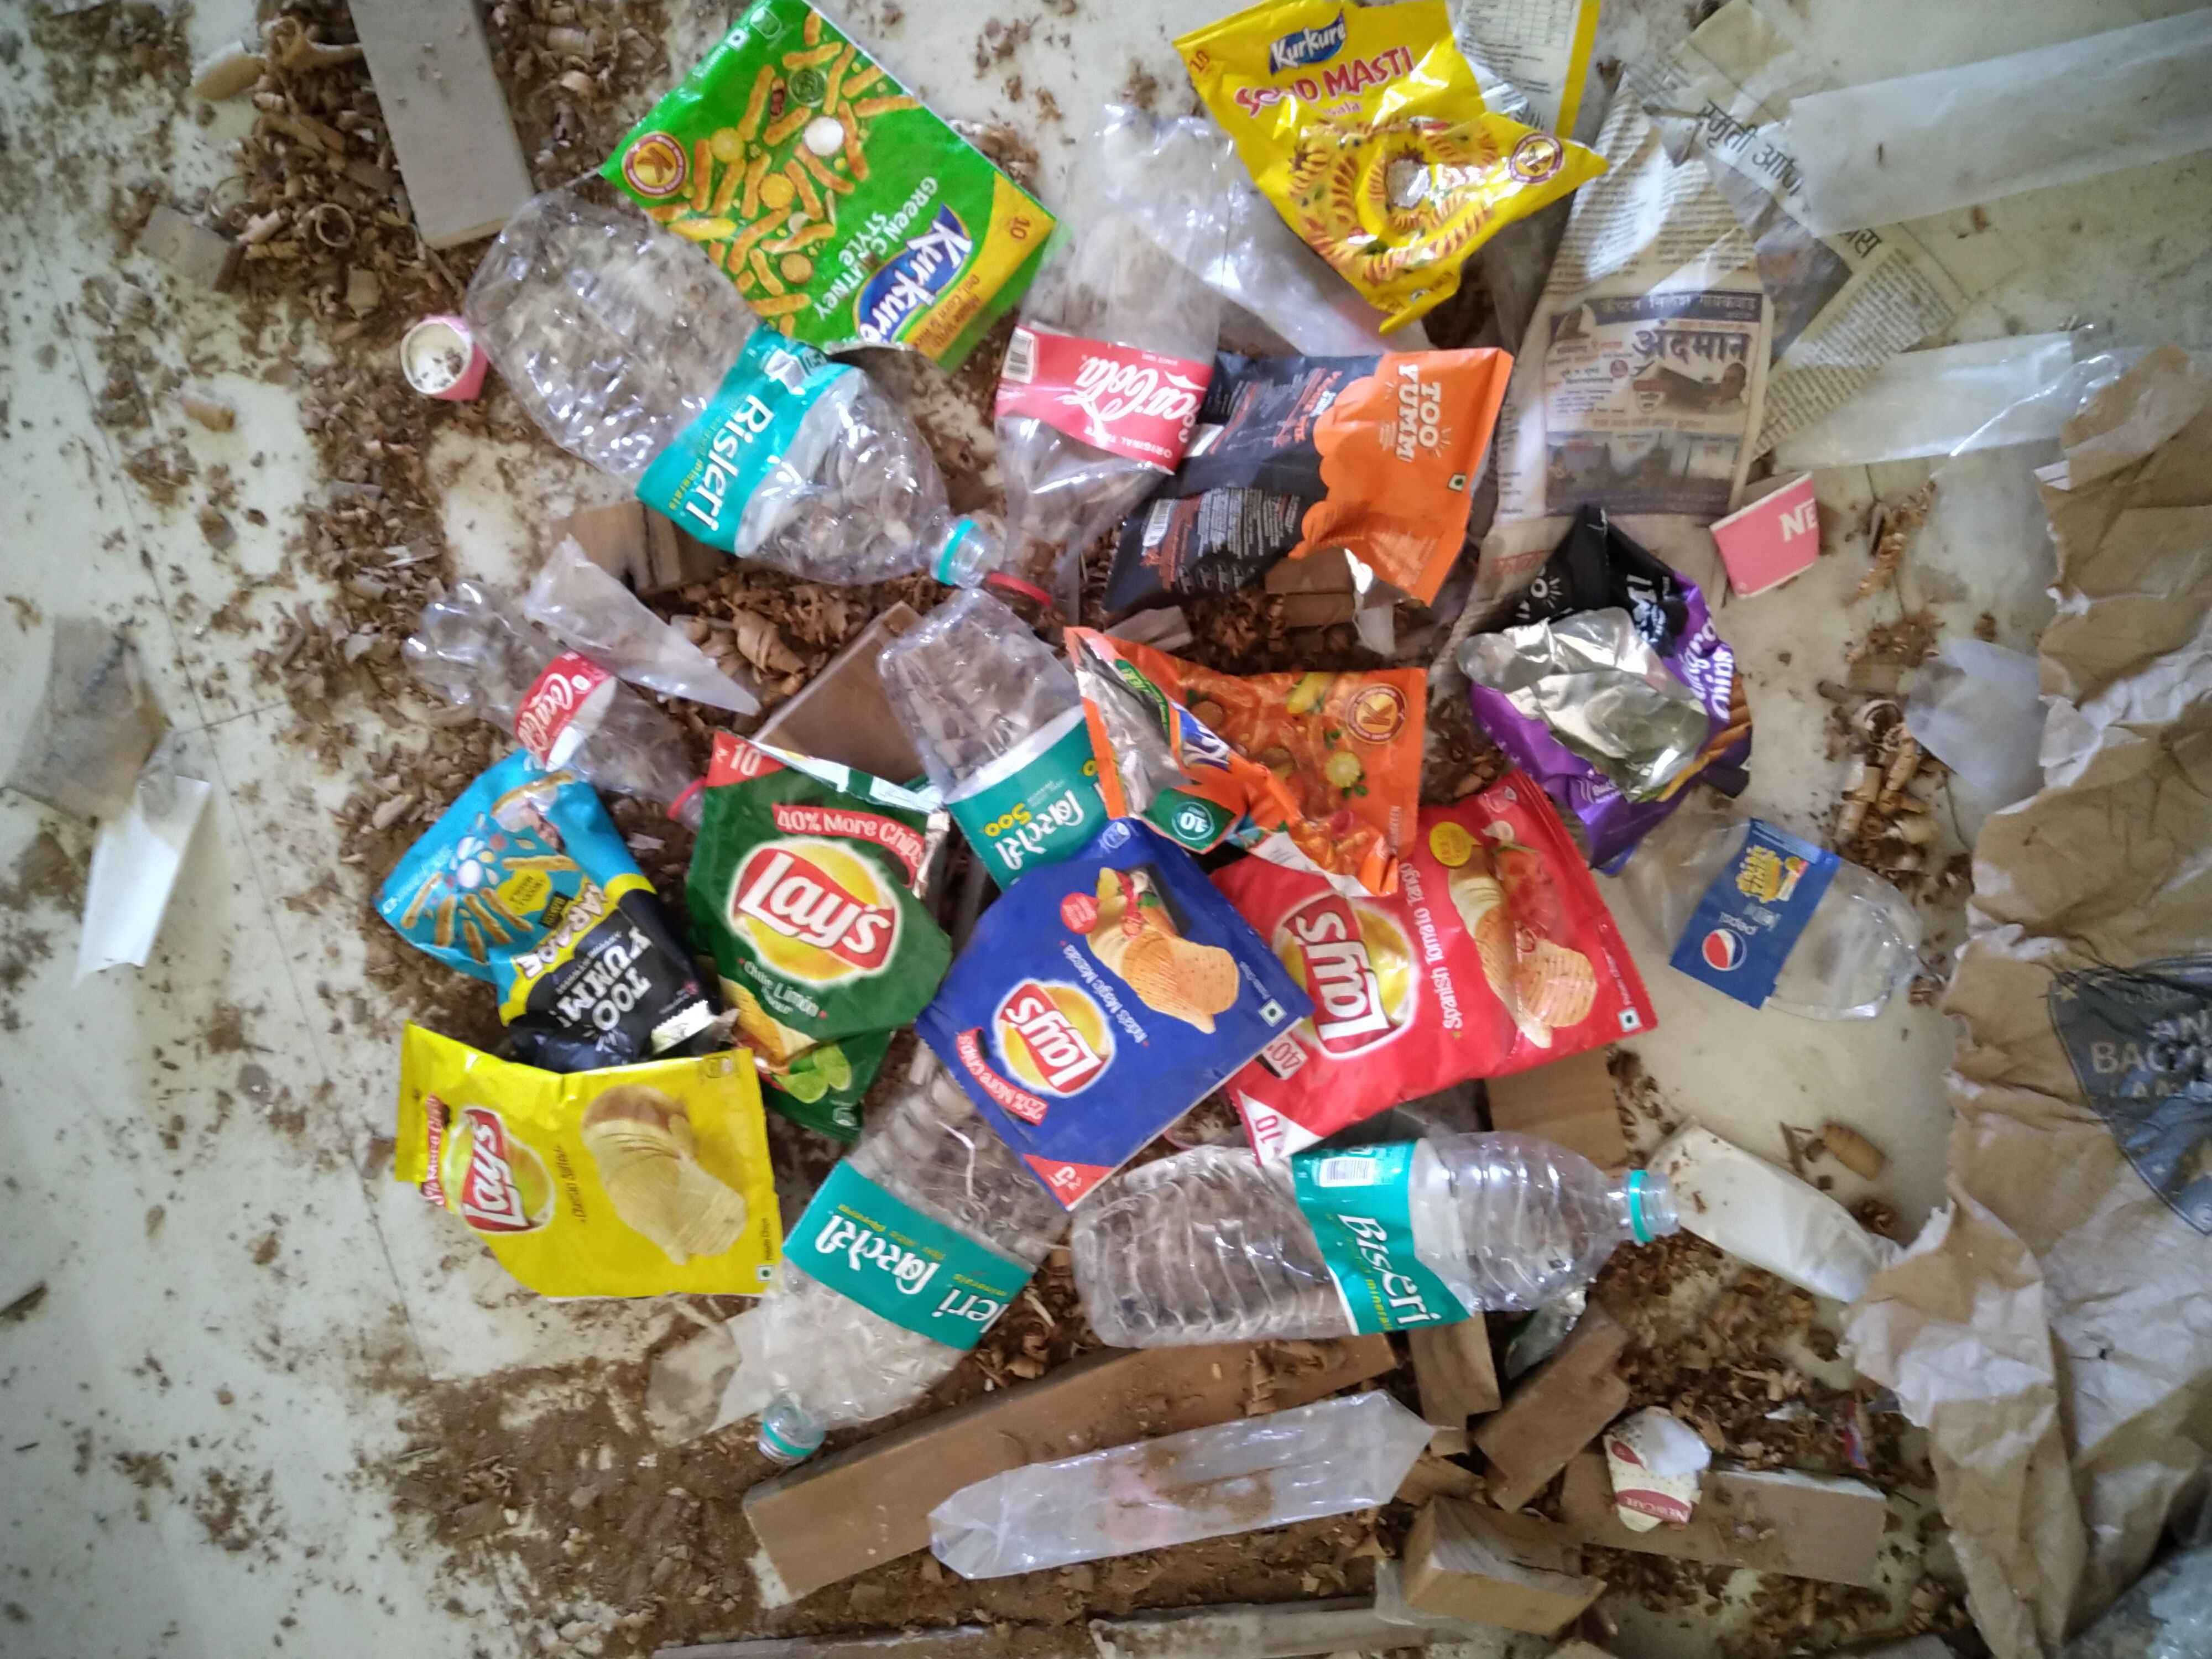Bisleri: (812, 1202, 1035, 1331), (1315, 1169, 1446, 1328), (681, 366, 801, 516), (977, 753, 1103, 882)
Coca-Cola: (1061, 345, 1204, 439), (507, 673, 580, 749)
Lays: (725, 823, 942, 1004), (1259, 889, 1432, 1056), (437, 1098, 568, 1265), (993, 969, 1151, 1091)
kurkure: (845, 197, 998, 349), (1157, 673, 1266, 788), (1252, 16, 1404, 68)
pepsi: (1695, 870, 1785, 974)
tooyumm: (538, 918, 669, 1039), (1503, 566, 1695, 629), (1388, 361, 1468, 486)
